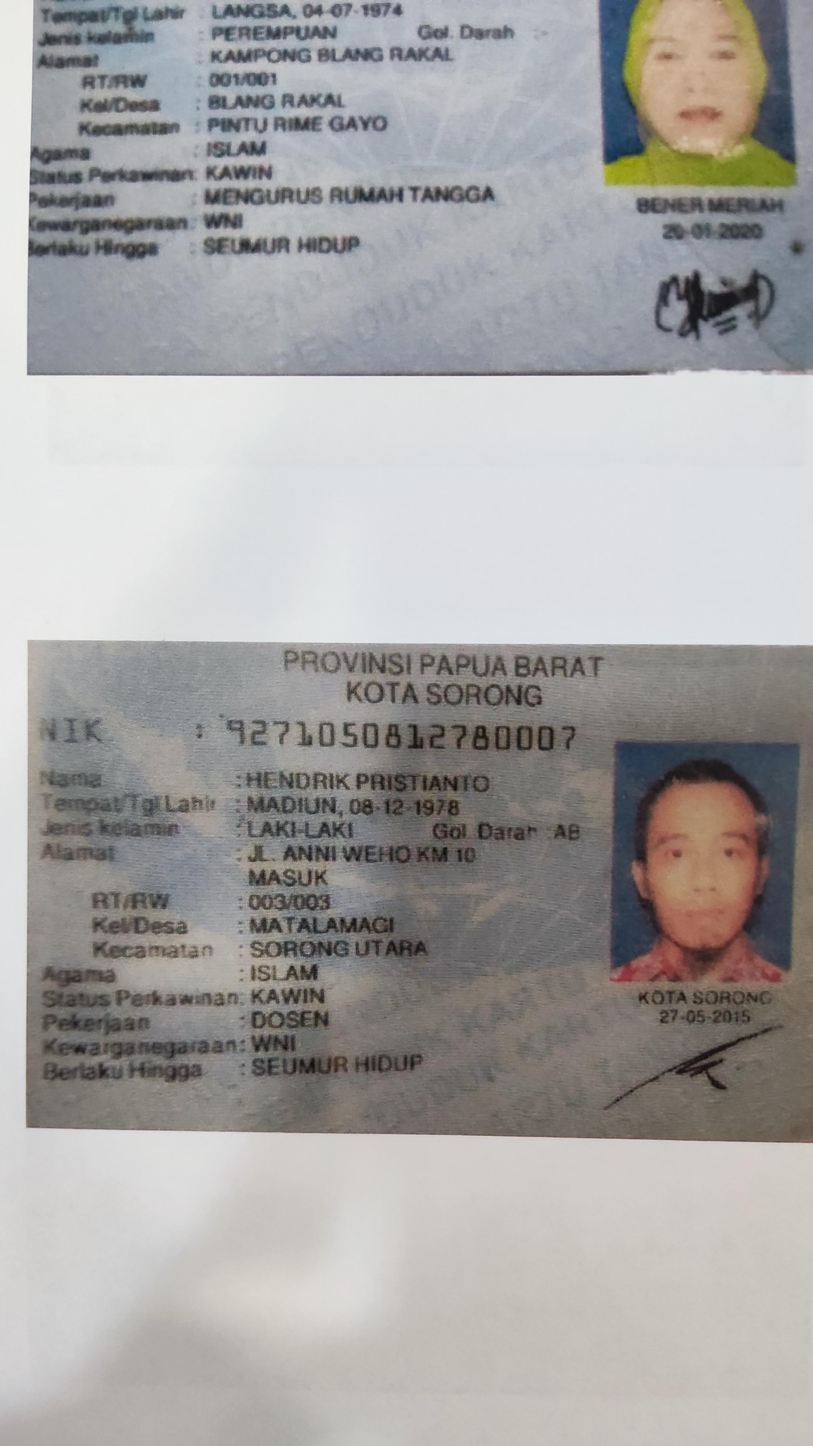ID-card: (22, 635, 808, 1151)
